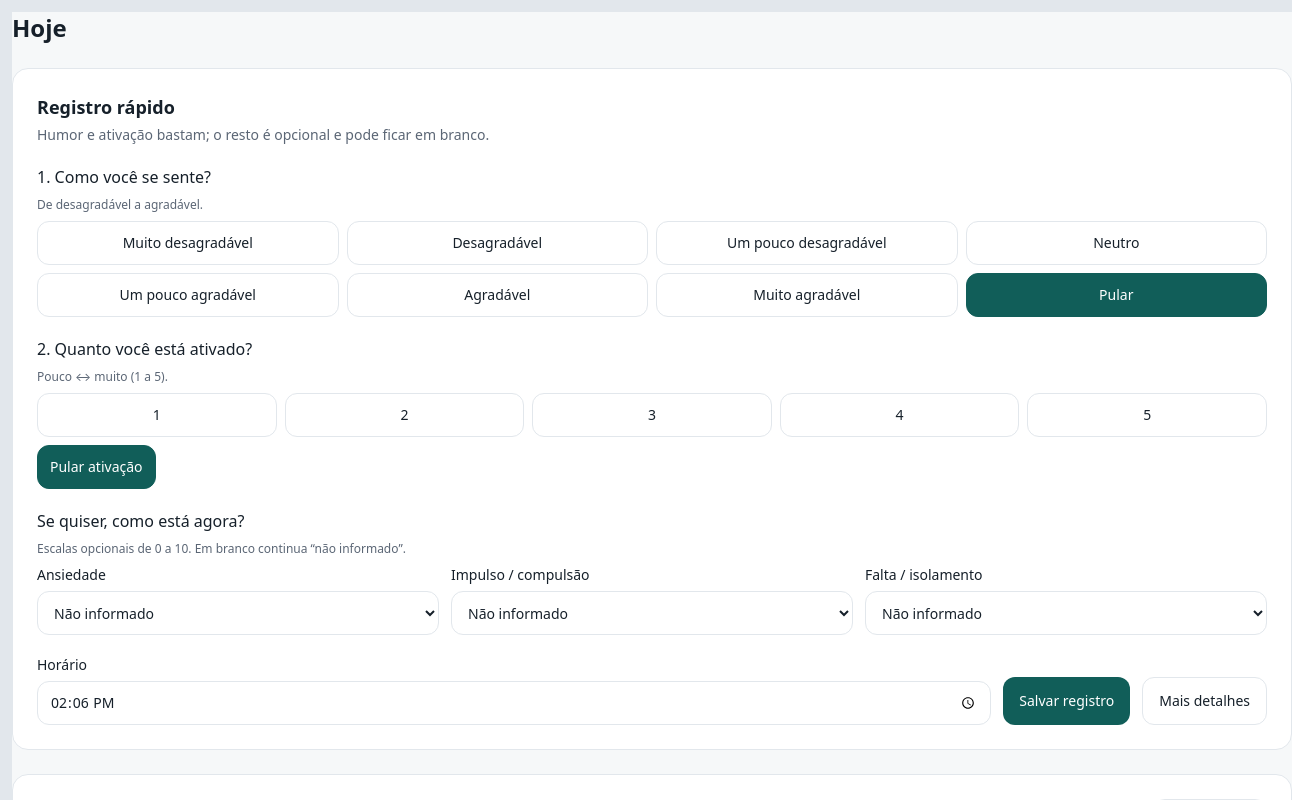
Scenario: TodayPage › registra o dia e a sync leva o registro ao servidor
Click the button "Agradável" at coordinates (497, 295), box [346, 273, 648, 317]
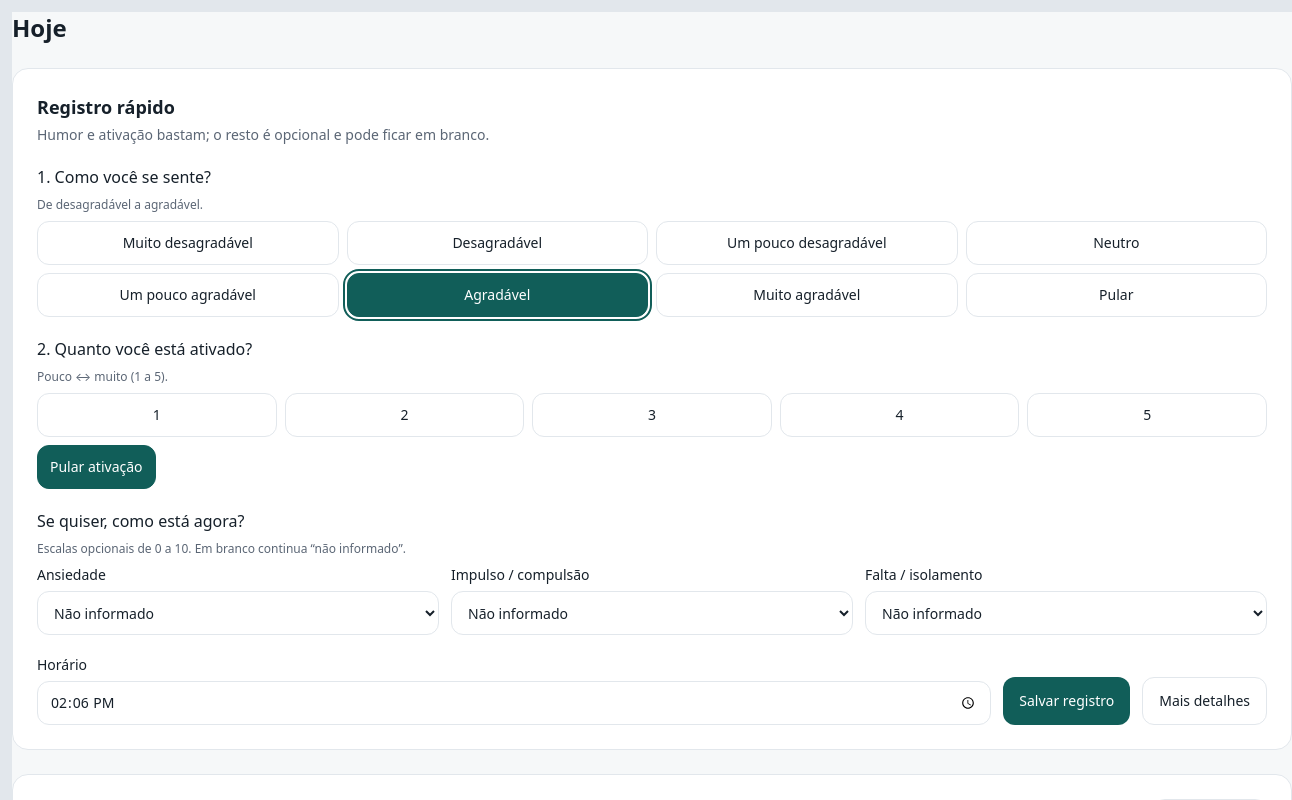
Click the button named "Ativação 3" at coordinates (652, 415), box [532, 393, 772, 437]
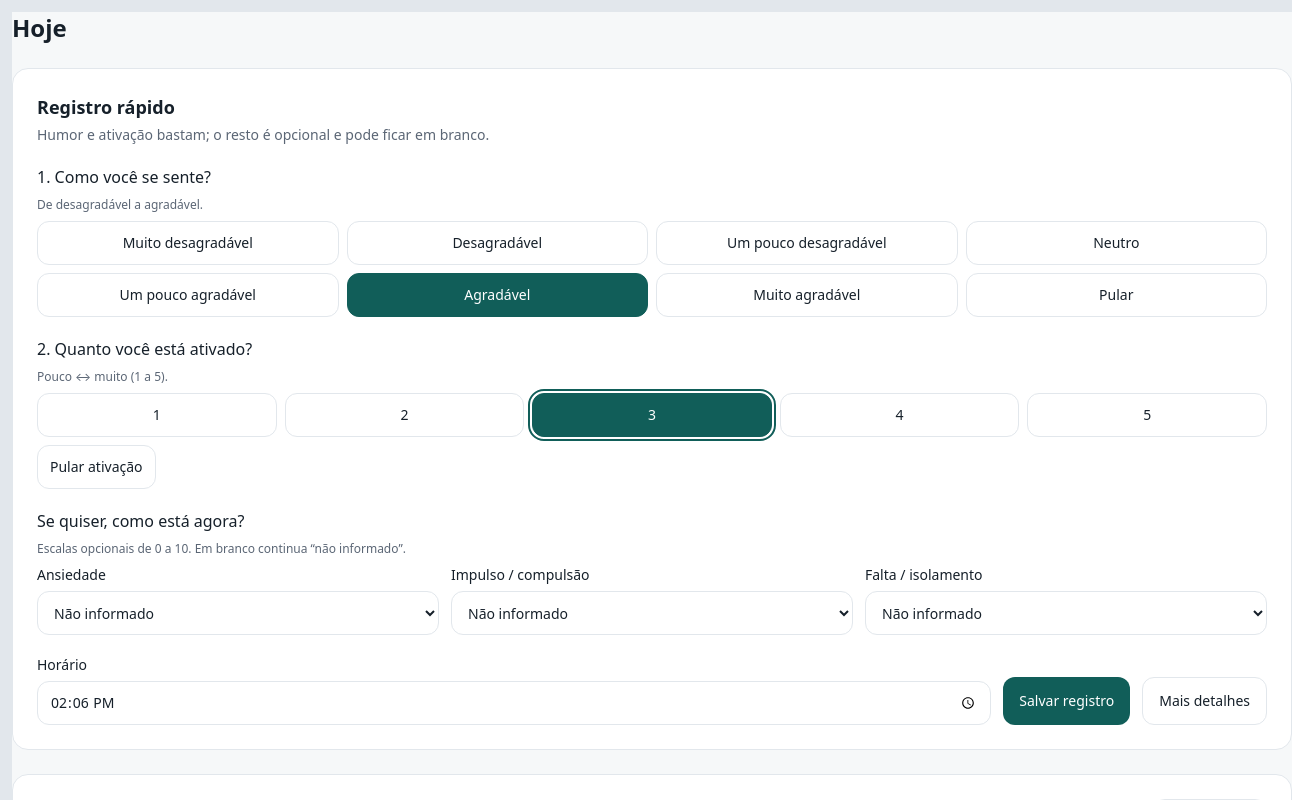
Click the button "Salvar registro" at coordinates (1067, 701), box [1003, 677, 1130, 725]
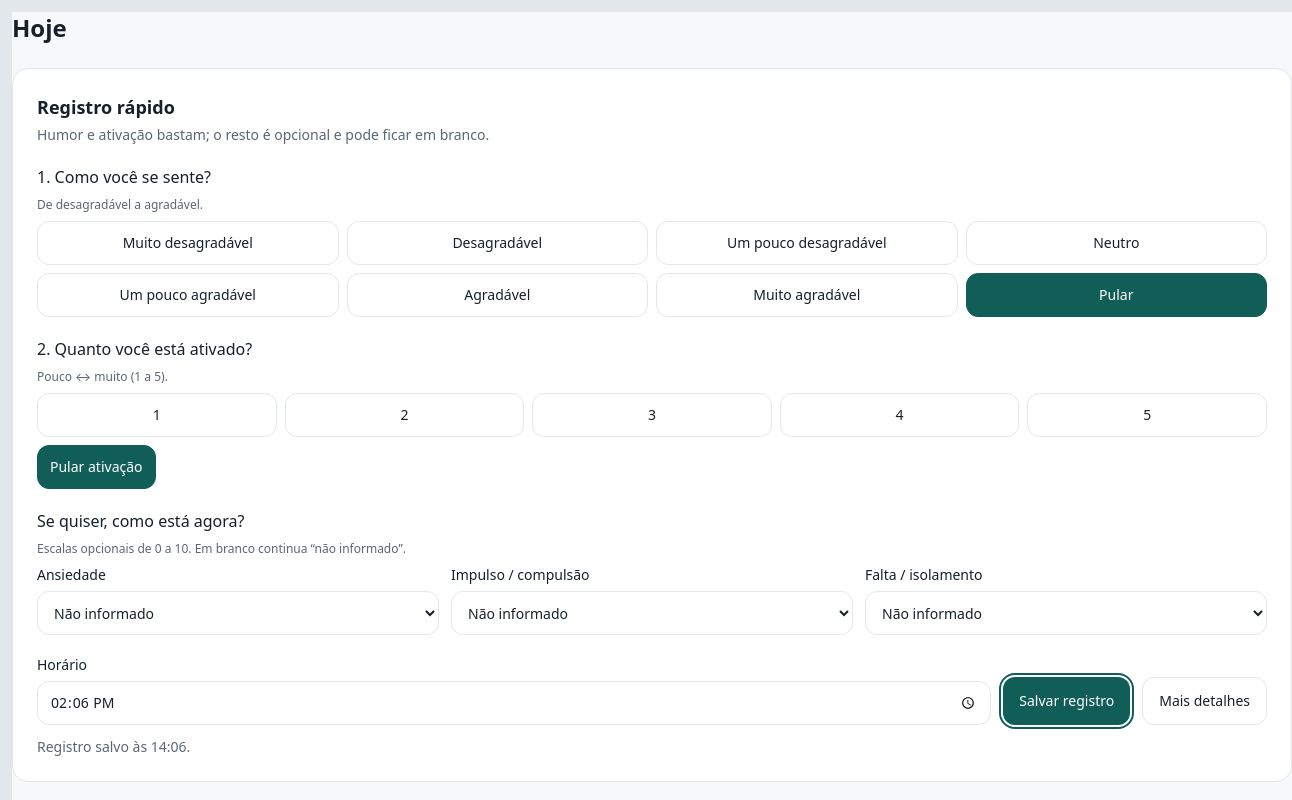
Expected: the message reads "Registro salvo às 14:06.", [37, 737, 190, 756]
